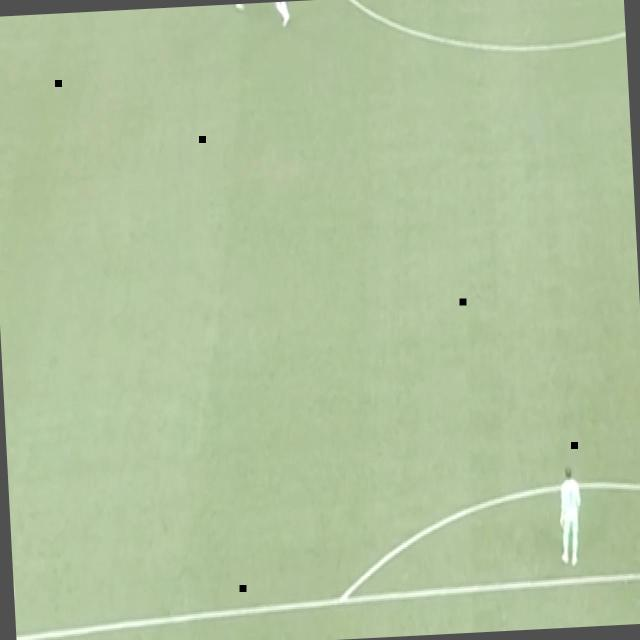player-white: (554, 458, 587, 574), (266, 1, 296, 31)
